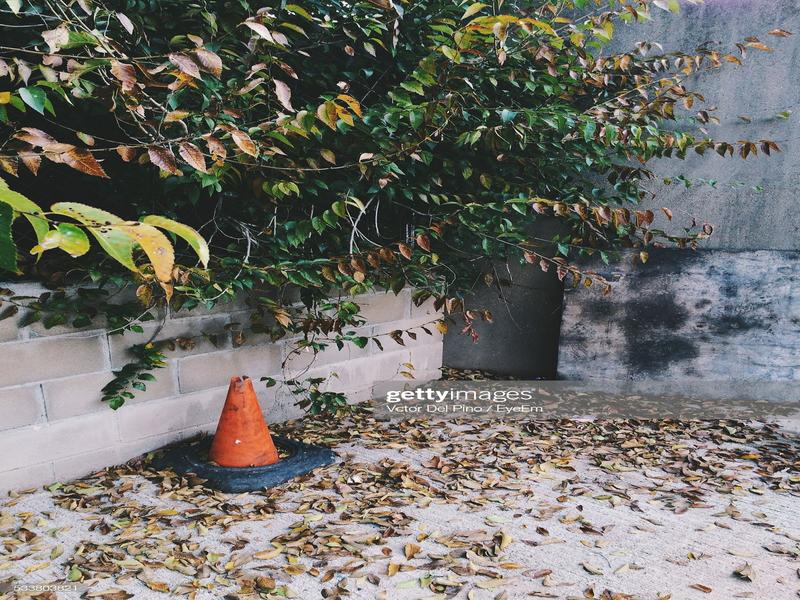Cone1: (161, 375, 333, 492)
